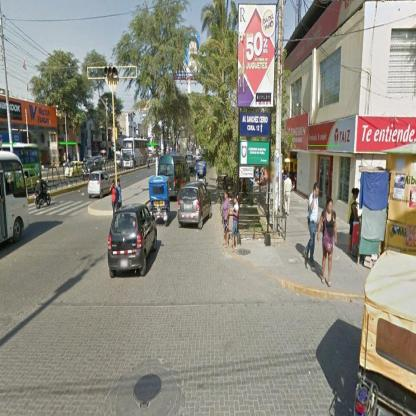Moto: (35, 172, 51, 211)
Peaton: (318, 197, 339, 289), (304, 185, 320, 274), (349, 187, 360, 253), (224, 191, 231, 250), (233, 195, 240, 253), (285, 174, 292, 216), (111, 181, 118, 215), (116, 180, 123, 208)
Pista: (154, 164, 224, 255), (28, 165, 162, 212)
Vehiculo: (357, 250, 416, 399), (109, 204, 158, 279), (1, 151, 30, 247), (179, 183, 212, 231), (158, 156, 191, 203), (1, 144, 43, 176), (150, 176, 171, 228), (122, 138, 149, 168), (89, 172, 113, 200), (82, 158, 105, 183), (17, 168, 38, 189), (65, 162, 83, 179), (197, 162, 208, 185), (186, 155, 196, 173), (115, 152, 122, 169)
